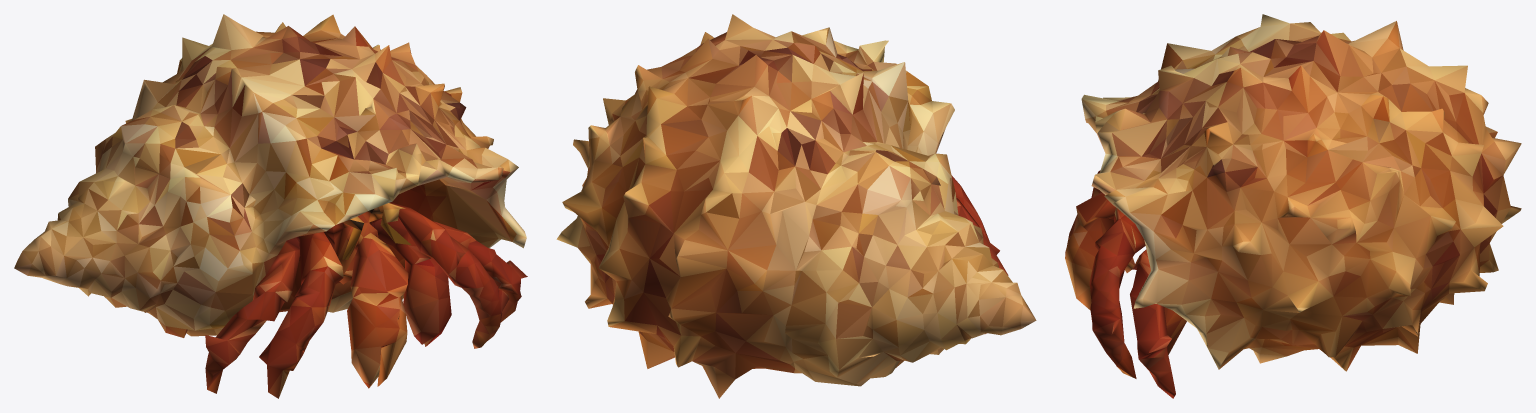
File: crab.glb
The picture shows the model from 3 angles, left to right: view 1: azimuth 30°, elevation 25°; view 2: azimuth 150°, elevation 25°; view 3: azimuth 270°, elevation 25°; orthographic projection. The views are drawn at different scales.
Parts seen in each view (by area): view 1: geometry_0; view 2: geometry_0; view 3: geometry_0.
Boxes of the visible parts, x1=… form: geometry_0: x1=14, y1=14, x2=527, y2=398; geometry_0: x1=556, y1=14, x2=1036, y2=398; geometry_0: x1=1065, y1=14, x2=1521, y2=398.
Bounding box in the file's own units: 0.045 × 0.0274 × 0.038.
1 material, 1 textured.
